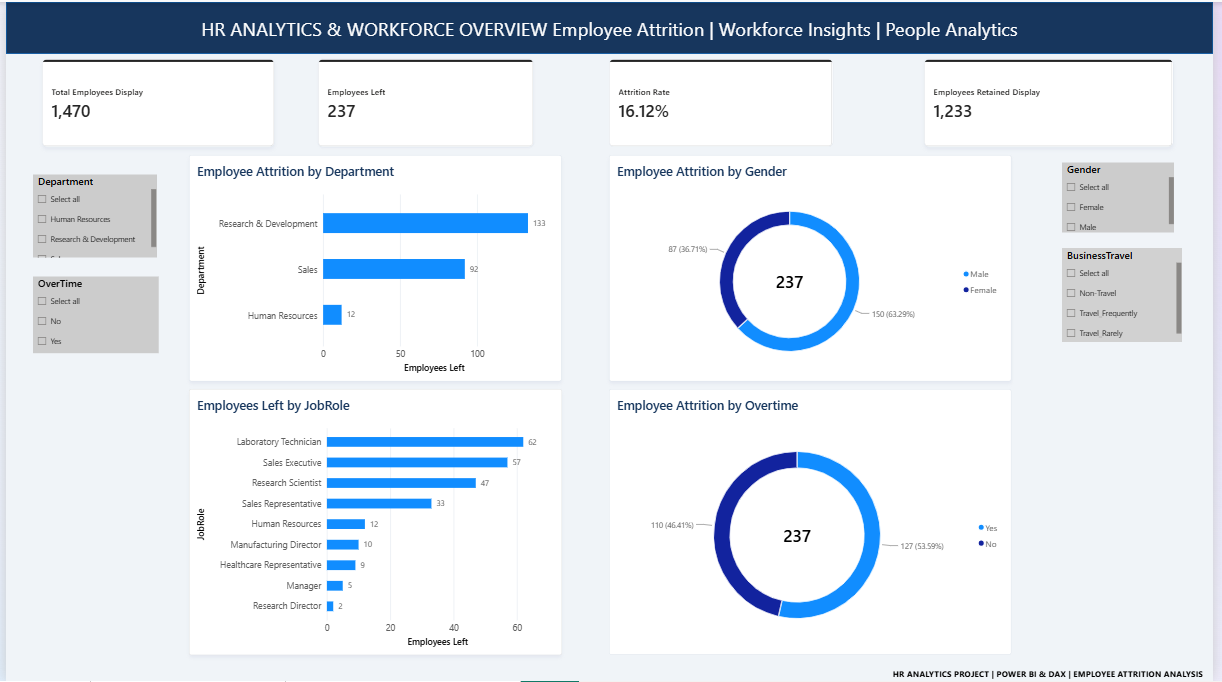

Layout of this report page (visuals, bound fields, positions):
{"tool":"powerbi","page":{"name":"HR Overview","canvas":[1920,1080],"ordinal":0},"visuals":[{"type":"cardVisual","fields":{"Data":["Employee_Data.Total Employees Display"]},"box":[56.7,90,370,140],"z":0},{"type":"cardVisual","fields":{"Data":["Employee_Data.Employees Left"]},"box":[496.7,90,343.3,140],"z":1000},{"type":"cardVisual","fields":{"Data":["Employee_Data.Employees Retained Display"]},"box":[1460,90,396.7,140],"z":2000},{"type":"cardVisual","fields":{"Data":["Employee_Data.Attrition Rate"]},"box":[960,90,356.7,140],"z":3000},{"type":"clusteredBarChart","title":"Employee Attrition by Department","fields":{"Category":["Employee_Data.Department"],"Y":["Employee_Data.Employees Left"]},"box":[290,243.3,592.5,360],"z":4000},{"type":"donutChart","title":"Employee Attrition by Gender","fields":{"Category":["Employee_Data.Gender"],"Y":["Employee_Data.Employees Left"]},"box":[960,243.3,640,360],"z":5000},{"type":"clusteredBarChart","fields":{"Category":["Employee_Data.JobRole"],"Y":["Employee_Data.Employees Left"]},"box":[290,616.7,593.3,423.3],"z":6000},{"type":"donutChart","title":"Employee Attrition by Overtime","fields":{"Category":["Employee_Data.OverTime"],"Y":["Employee_Data.Employees Left"]},"box":[960,616.7,640,422.5],"z":7000},{"type":"slicer","fields":{"Values":["Employee_Data.Department"]},"box":[42,274,196,132],"z":7001},{"type":"slicer","fields":{"Values":["Employee_Data.Gender"]},"box":[1680,256,178,110],"z":7002},{"type":"slicer","fields":{"Values":["Employee_Data.BusinessTravel"]},"box":[1680,392,190,148],"z":7003},{"type":"slicer","fields":{"Values":["Employee_Data.OverTime"]},"box":[42,436,200,122],"z":7004},{"type":"shape","title":"HR ANALYTICS & WORKFORCE OVERVIEW Employee Attrition | Workforce Insights | People Analytics","box":[0,0,1920,82.5],"z":7005},{"type":"textbox","box":[1350.4,1059.3,553.5,21.5],"z":7006}]}

Visuals, with their boxes in screenshot pixels (x1, y1, x2, y2), scaled from the page's 1920x1080 canvas onto the 1222x682 screenshot:
cardVisual - Employee_Data.Total Employees Display: <region>36, 57, 272, 145</region>
cardVisual - Employee_Data.Employees Left: <region>316, 57, 535, 145</region>
cardVisual - Employee_Data.Employees Retained Display: <region>929, 57, 1182, 145</region>
cardVisual - Employee_Data.Attrition Rate: <region>611, 57, 838, 145</region>
"Employee Attrition by Department" clusteredBarChart: <region>185, 154, 562, 381</region>
"Employee Attrition by Gender" donutChart: <region>611, 154, 1018, 381</region>
clusteredBarChart - Employee_Data.JobRole x Employee_Data.Employees Left: <region>185, 389, 562, 657</region>
"Employee Attrition by Overtime" donutChart: <region>611, 389, 1018, 656</region>
slicer - Employee_Data.Department: <region>27, 173, 151, 256</region>
slicer - Employee_Data.Gender: <region>1069, 162, 1183, 231</region>
slicer - Employee_Data.BusinessTravel: <region>1069, 248, 1190, 341</region>
slicer - Employee_Data.OverTime: <region>27, 275, 154, 352</region>
"HR ANALYTICS & WORKFORCE OVERVIEW Employee Attrition | Workforce Insights | People Analytics" shape: <region>0, 0, 1221, 52</region>
textbox: <region>859, 669, 1212, 681</region>
